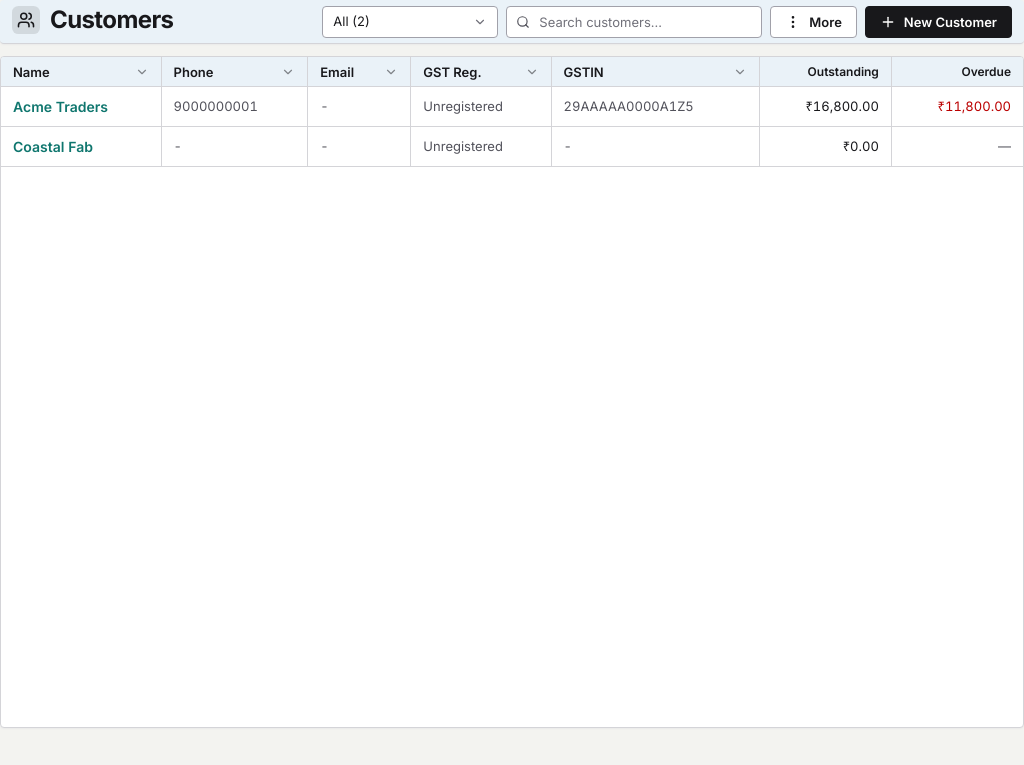
Test: what the party lists say about money › opens the complete customer page from a customer row
This screenshot has width=1024, height=765.
Click the text "Acme Traders" at point(81, 107), box [1,87,161,127]
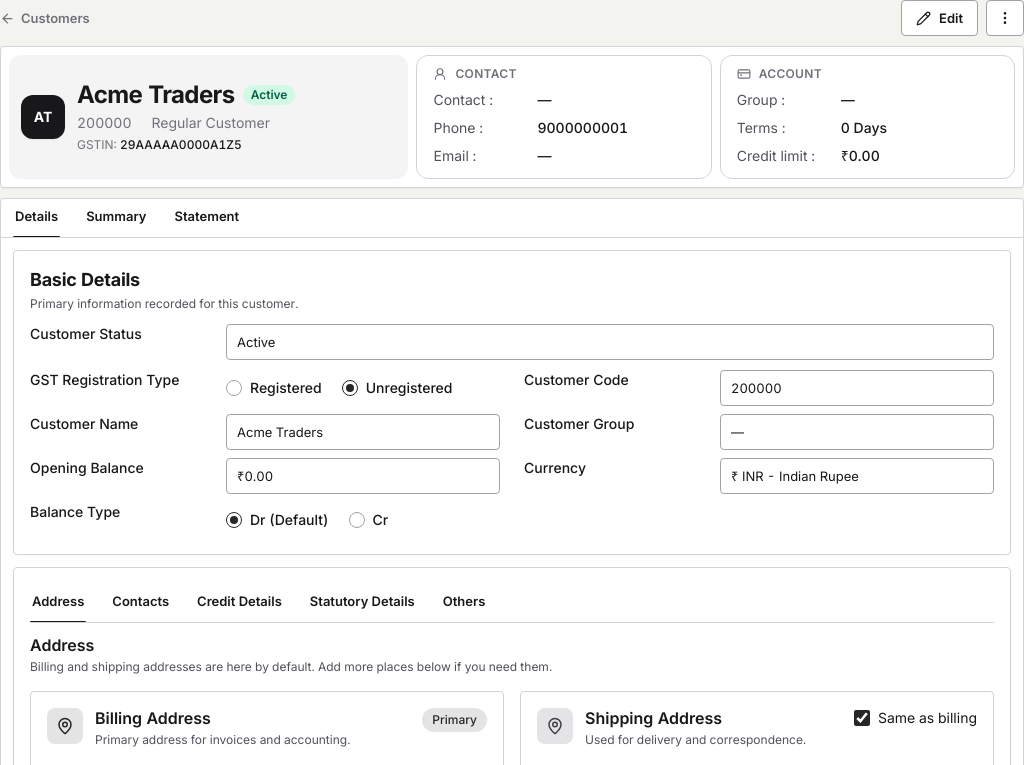
Now the heading "Acme Traders" is shown, box [77,81,235,109]
Now the heading "Basic Details" is shown, box [30,269,140,290]
Click the tab "Statement" at point(207, 218), box [172,199,241,237]
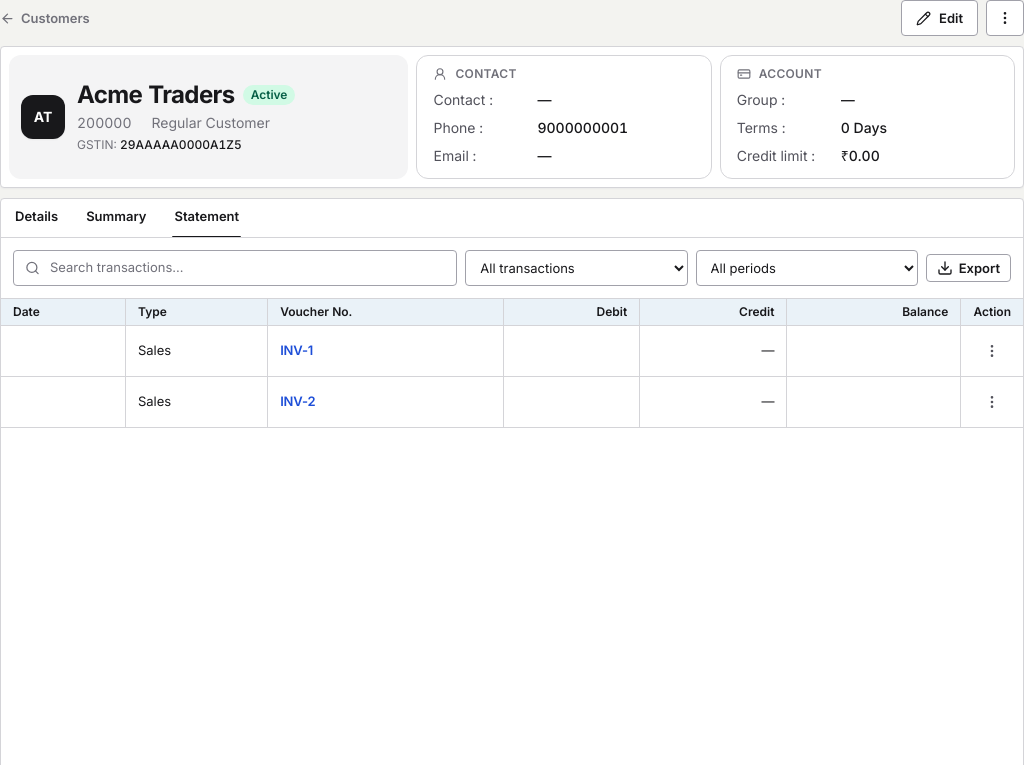
Now the dropdown named "Transaction type" is shown, box [465,250,688,286]
Now the dropdown named "Transaction period" is shown
Select "Custom period" in the dropdown named "Transaction period" at point(807, 268), box [696,250,918,286]
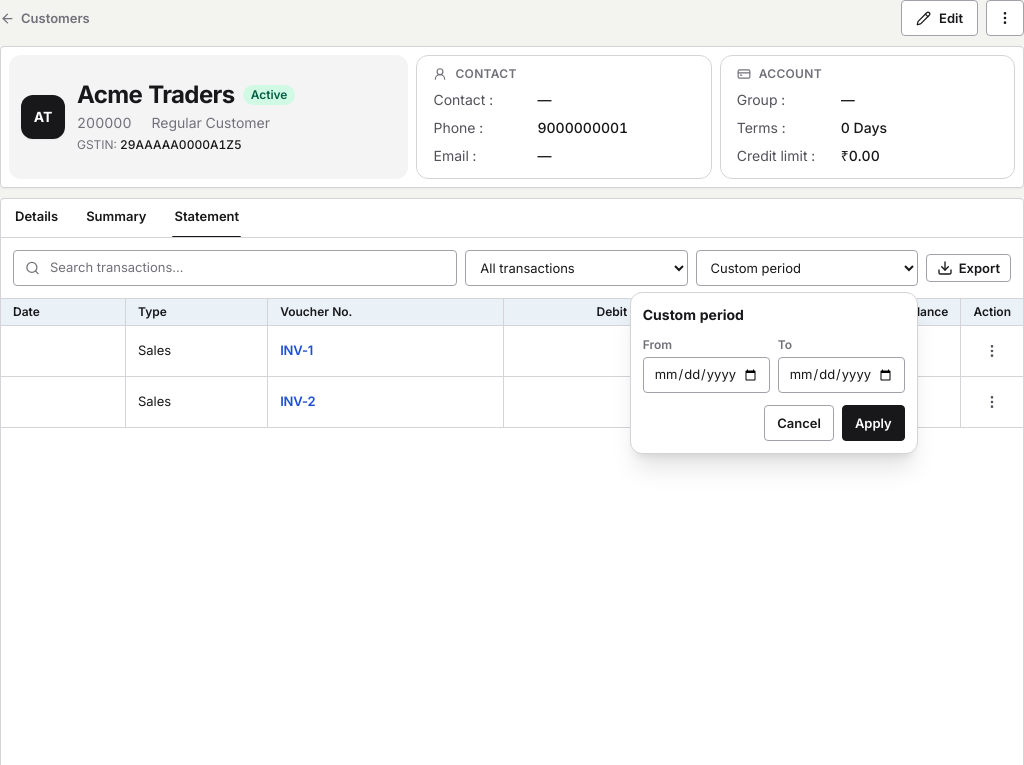
Now the date field named "Custom period from" is shown
Now the date field named "Custom period to" is shown, box [778,357,905,393]
Type "2026-08-01" into the date field named "Custom period from" at point(706, 375), box [643,357,770,393]
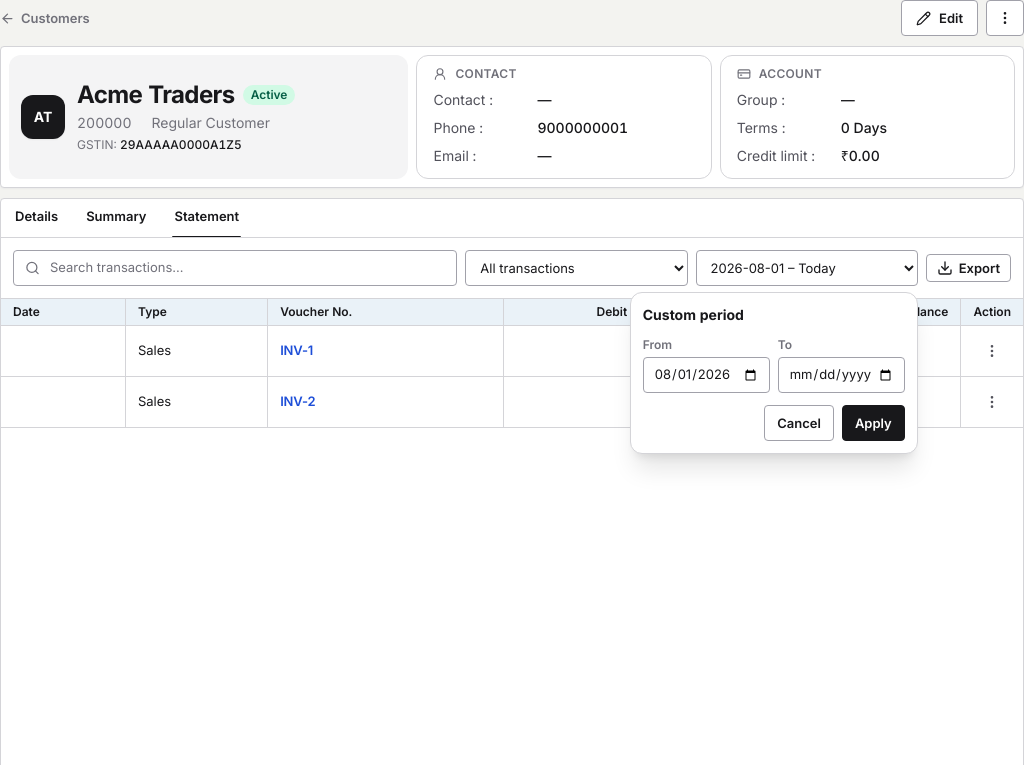
Type "2026-09-30" into the date field named "Custom period to" at point(841, 375), box [778,357,905,393]
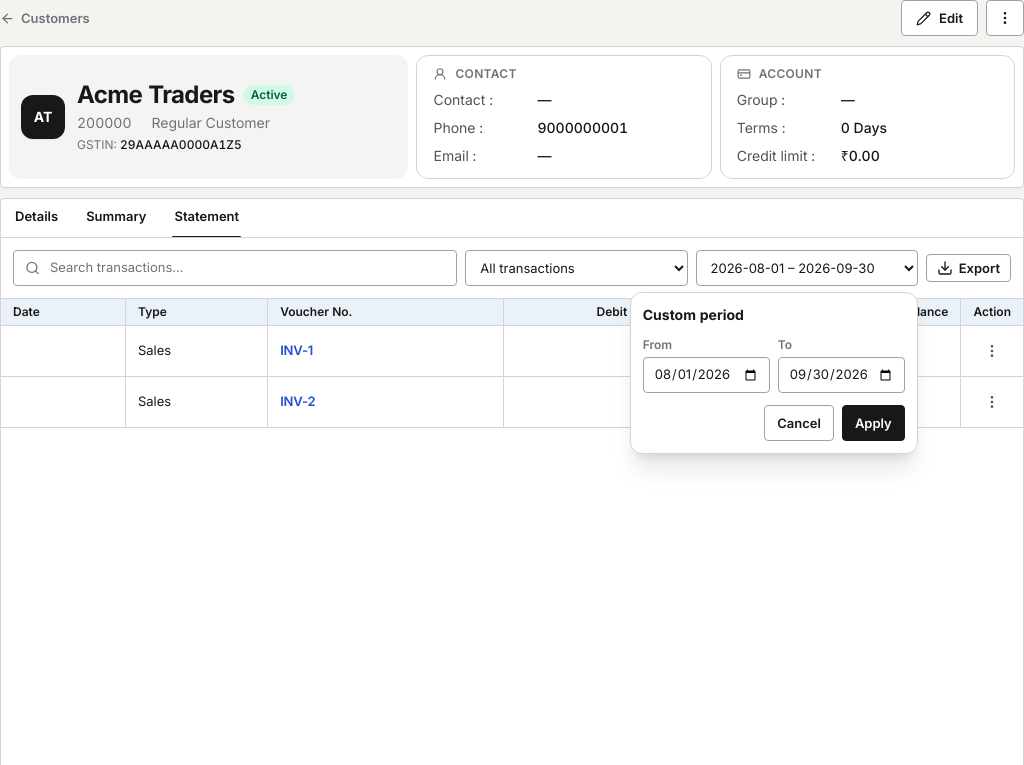
Click the button "Apply" at point(873, 423), box [842,405,905,441]
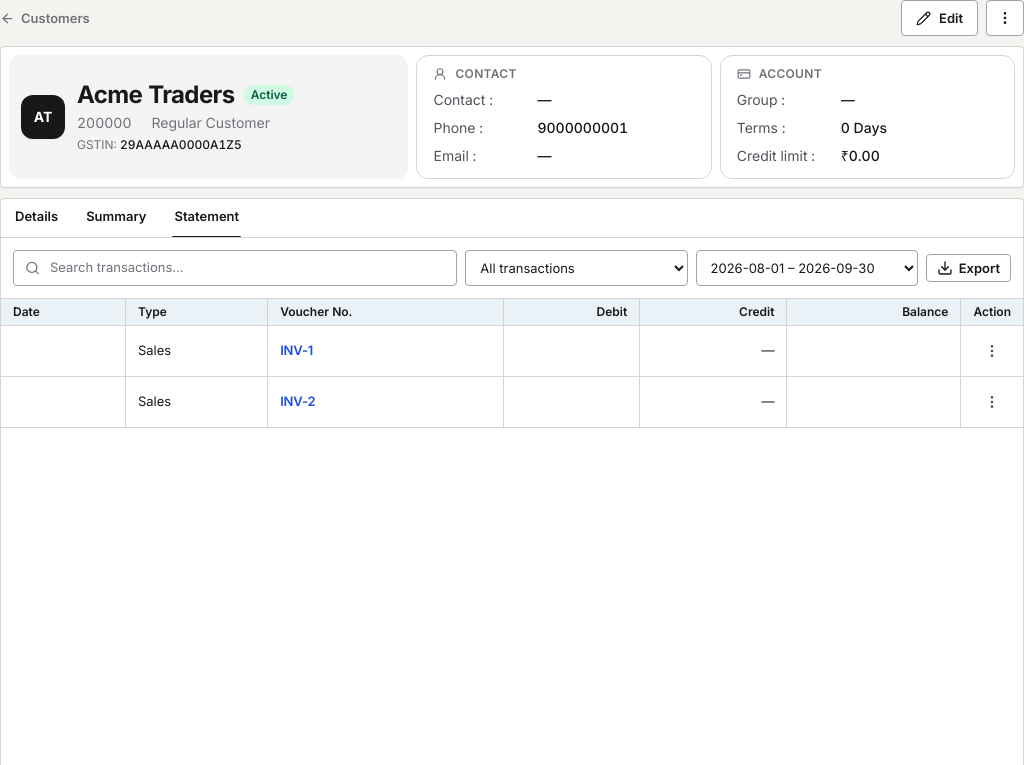
Now the button "INV-1" is shown, box [280,341,313,359]
Now the column heading "Date" is shown, box [1,299,125,326]
Now the dialog labelled "Custom period From" is gone
